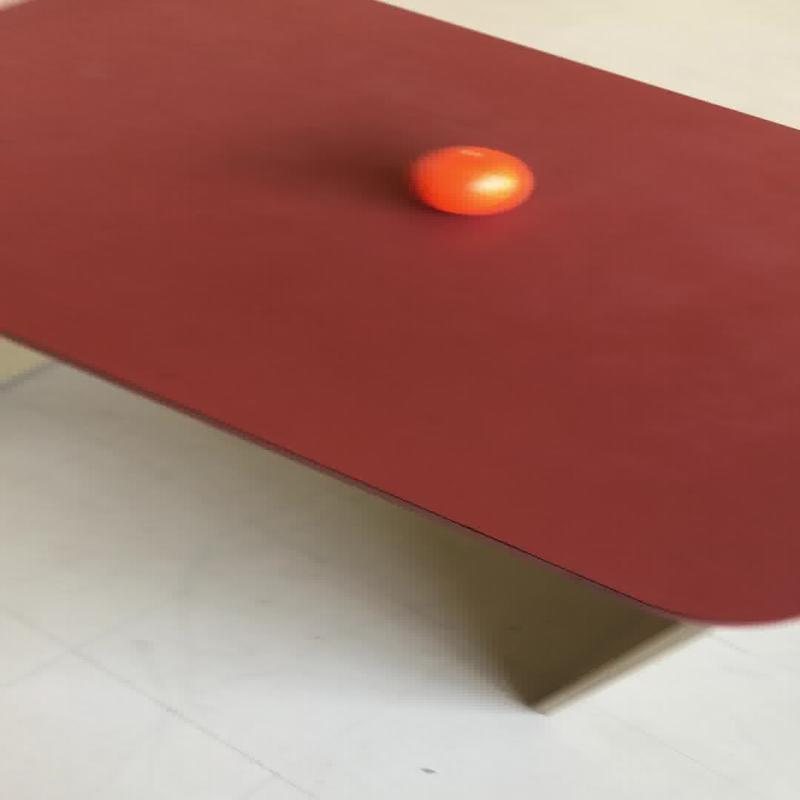orange: (408, 144, 534, 215)
